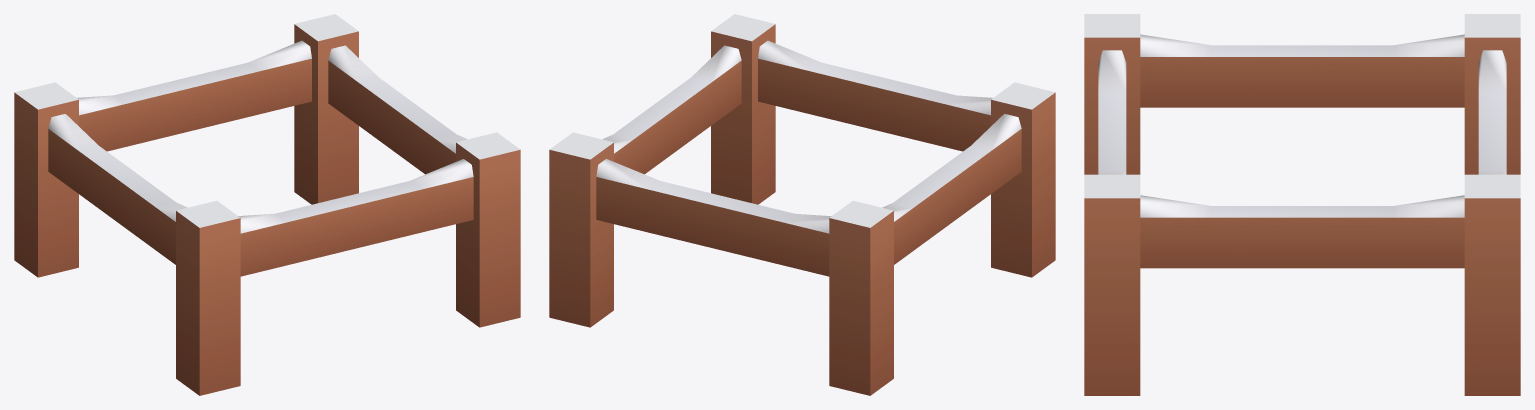
Rendered from snow-wood-structure.glb.
The picture shows the model from 3 angles, left to right: view 1: azimuth 30°, elevation 25°; view 2: azimuth 150°, elevation 25°; view 3: azimuth 270°, elevation 25°; orthographic projection. The views are drawn at different scales.
Parts seen in each view (by area): view 1: snow-wood-structure; view 2: snow-wood-structure; view 3: snow-wood-structure.
Boxes of the visible parts, box(x1,y1,x2,y2) form: snow-wood-structure: box(14, 14, 520, 395); snow-wood-structure: box(549, 14, 1055, 395); snow-wood-structure: box(1084, 14, 1520, 395).
Size of the model in its own units: 1 by 0.5 by 1.
Materials: 1 (1 with a texture image).
